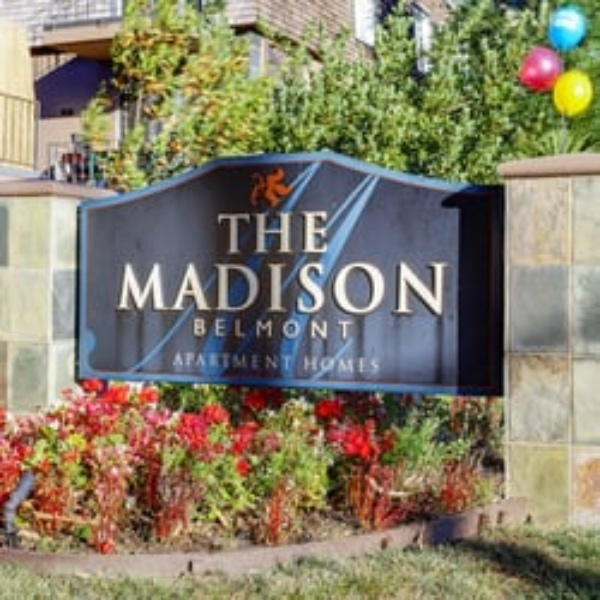text: (433, 260, 449, 317), (129, 260, 144, 317), (145, 260, 160, 317), (161, 260, 176, 317), (177, 260, 192, 317), (193, 260, 208, 317), (209, 260, 224, 317), (225, 260, 240, 317), (241, 260, 256, 317), (257, 260, 272, 317), (273, 260, 288, 317), (289, 260, 304, 317), (305, 260, 320, 317), (321, 260, 336, 317), (337, 260, 352, 317), (353, 260, 368, 317), (369, 260, 384, 317), (385, 260, 400, 317), (401, 260, 416, 317), (417, 260, 432, 317), (225, 209, 240, 255), (241, 209, 256, 255), (257, 209, 272, 255), (273, 209, 288, 255), (289, 209, 304, 255), (305, 209, 320, 255), (337, 317, 353, 341), (321, 209, 329, 255), (193, 317, 208, 341), (209, 317, 224, 341), (225, 317, 240, 341), (241, 317, 256, 341), (257, 317, 272, 341), (273, 317, 288, 341), (289, 317, 304, 341), (305, 317, 320, 341), (321, 317, 336, 341), (217, 209, 224, 255), (305, 353, 320, 373), (321, 353, 336, 373), (337, 353, 352, 373), (353, 353, 368, 373), (123, 260, 128, 317), (177, 351, 192, 370), (193, 351, 208, 370), (209, 351, 224, 370), (225, 351, 240, 370), (241, 351, 256, 370), (257, 351, 272, 370), (273, 351, 288, 370), (369, 353, 380, 373), (289, 351, 293, 370), (173, 351, 176, 370), (190, 317, 192, 341), (303, 353, 304, 373)
